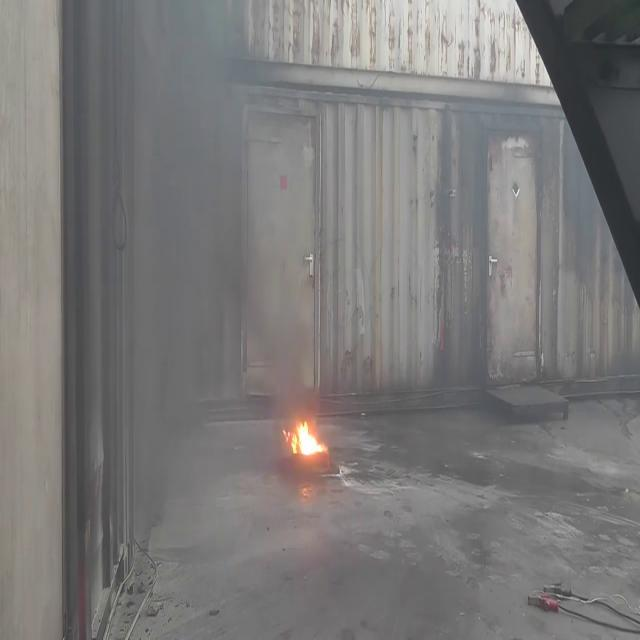Fire: (288, 409, 326, 464)
Smoke: (98, 0, 318, 398)
